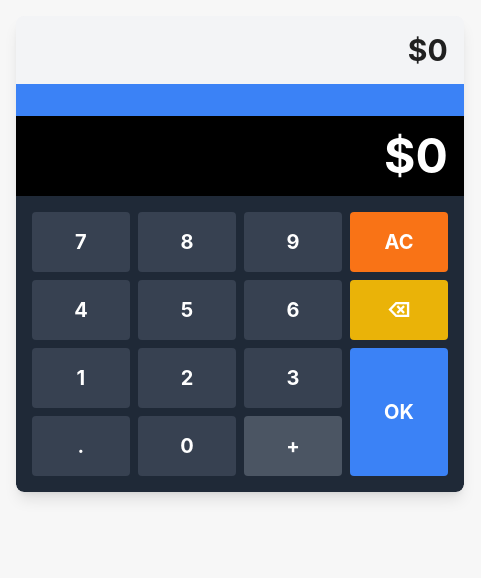
AccountingApp › deletes item from history when delete button is clicked
Step 1. Click the button "1" → x=81, y=378, box left=32, top=348, right=130, bottom=408
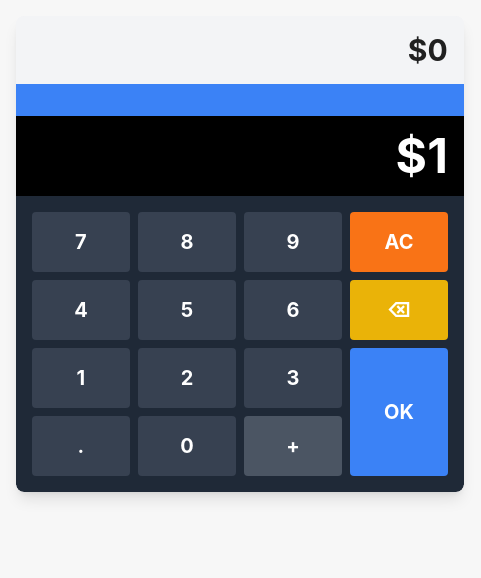
Step 2. Click the button "0" → x=187, y=446, box left=138, top=416, right=236, bottom=476
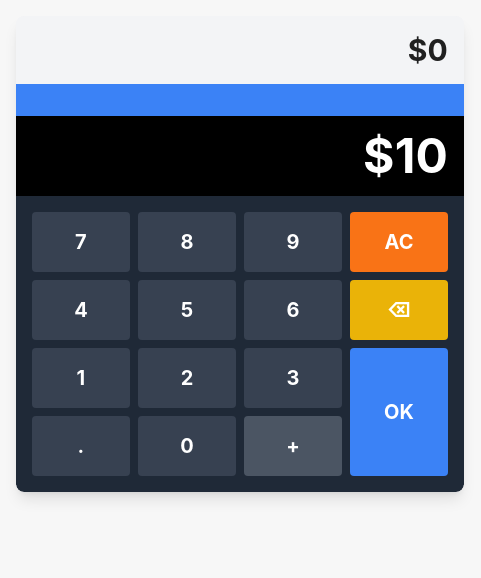
Step 3. Click the button "OK" → x=399, y=412, box left=350, top=348, right=448, bottom=476
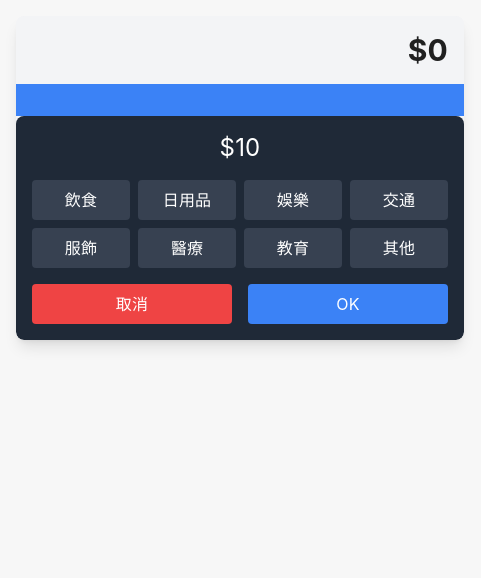
Step 4. Click the button "飲食" → x=81, y=200, box left=32, top=180, right=130, bottom=220
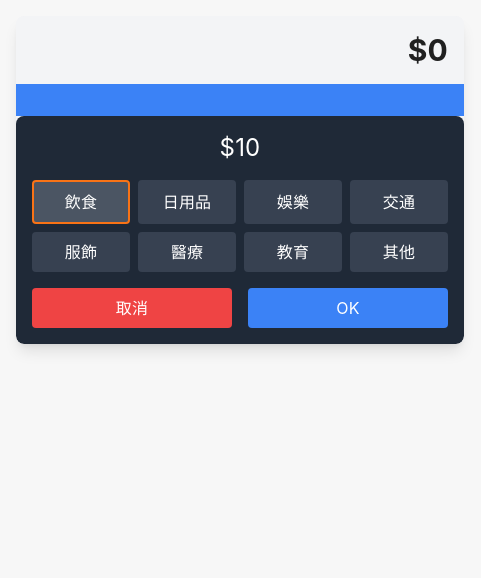
Step 5. Click the button "OK" → x=348, y=308, box left=248, top=288, right=448, bottom=328
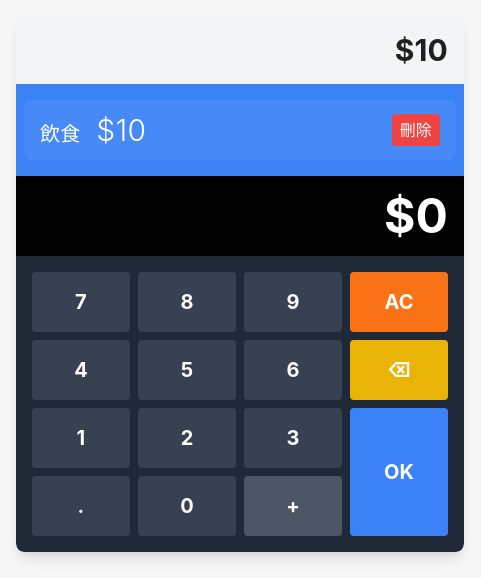
Expected: the text "$10" is shown 2 times, left=395, top=32, right=448, bottom=68; left=96, top=112, right=146, bottom=148
Expected: the text "飲食" is shown, left=40, top=122, right=80, bottom=146
Step 6. Click the button "刪除" → x=416, y=130, box left=392, top=114, right=440, bottom=146
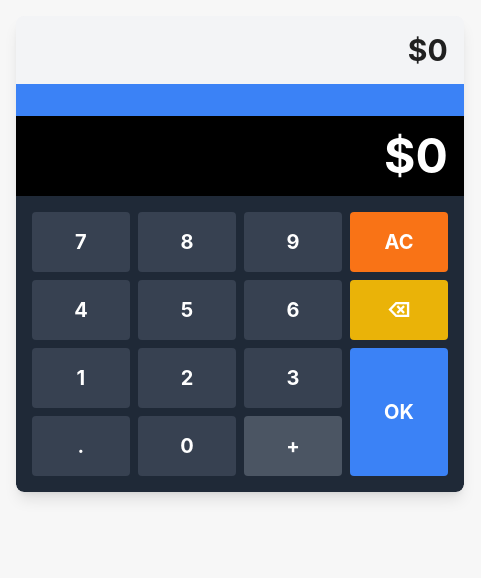
Expected: the text "飲食" is gone
Expected: the text "$10" is gone
